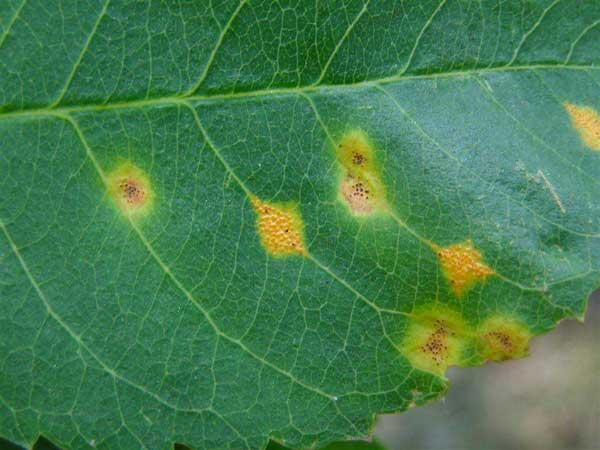Apple rust leaf: (2, 2, 599, 444)
